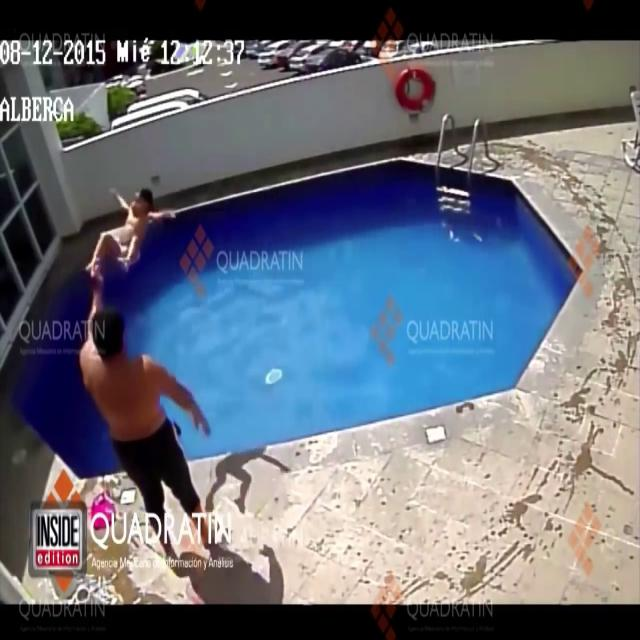adult: (76, 305, 230, 552)
child: (86, 186, 179, 284)
